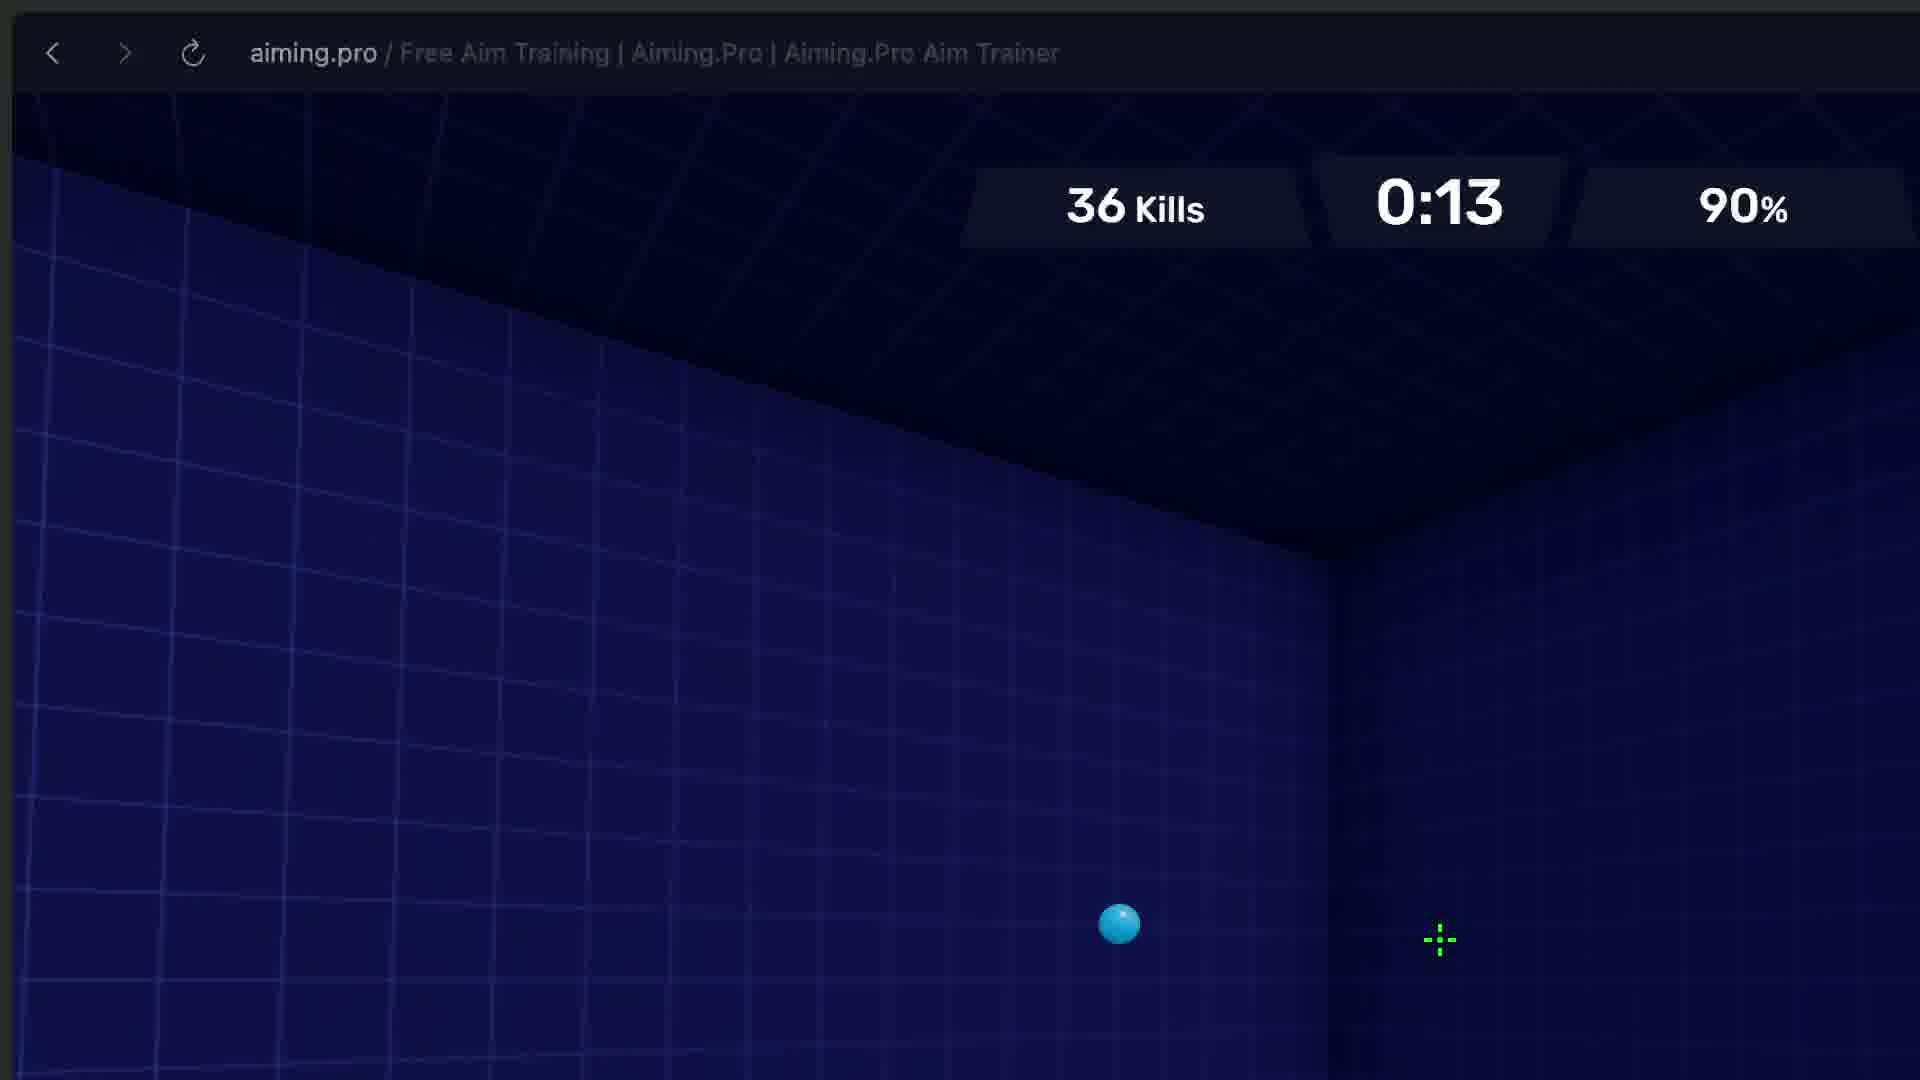target: (1098, 905, 1139, 943)
